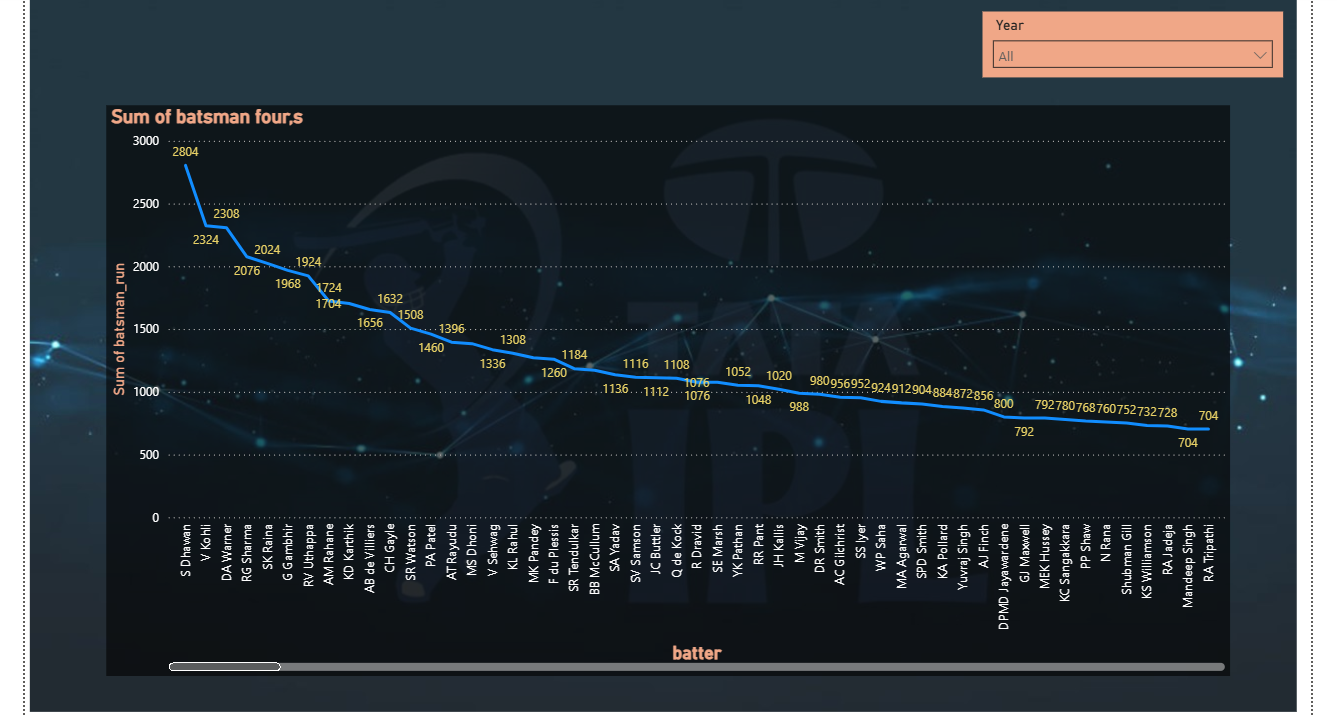

What the dashboard file says about the page in this screenshot:
{"tool":"powerbi","page":{"name":"Sum of 4's","canvas":[1280,720],"ordinal":2},"visuals":[{"type":"image","box":[0,0,1270.7,720.4],"z":0},{"type":"lineChart","title":"Sum of batsman four,s","fields":{"Category":["ipl_ball_by_ball_2008_2022.batter"],"Y":["Sum(ipl_ball_by_ball_2008_2022.batsman_run)"]},"box":[81,111.1,1118.4,568.1],"z":1000},{"type":"slicer","fields":{"Values":["Calender Table.Year"]},"box":[952.3,17.8,299.1,65.9],"z":2000}]}

Visuals, with their boxes in screenshot pixels (x1, y1, x2, y2):
image: bbox=[24, 0, 1336, 712]
"Sum of batsman four,s" lineChart: bbox=[110, 69, 1291, 668]
slicer - Calender Table.Year: bbox=[1030, 0, 1336, 40]
